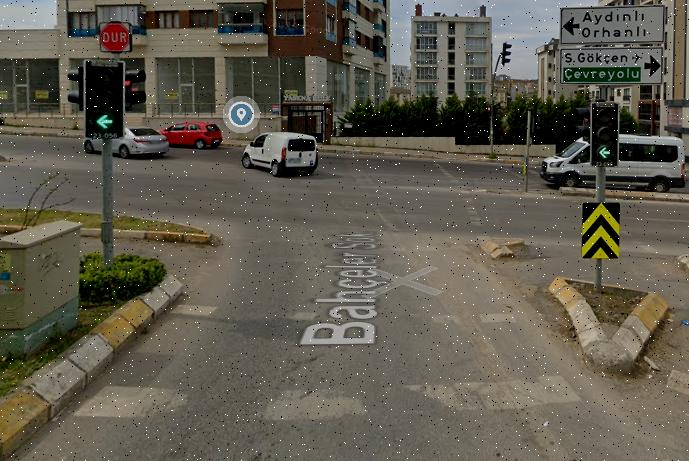greenlight: (88, 68, 119, 131)
stop: (100, 23, 131, 52)
